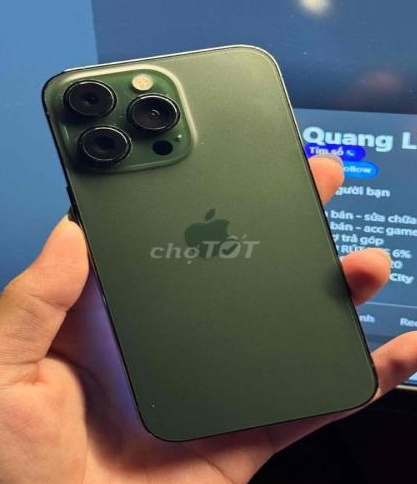scratch: (50, 75, 195, 165), (135, 388, 182, 442)
